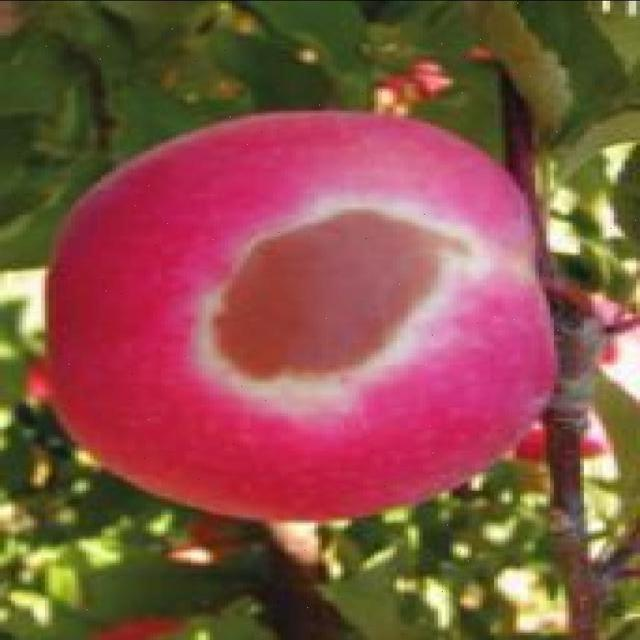Sunscald Fruit: (127, 132, 322, 273)
